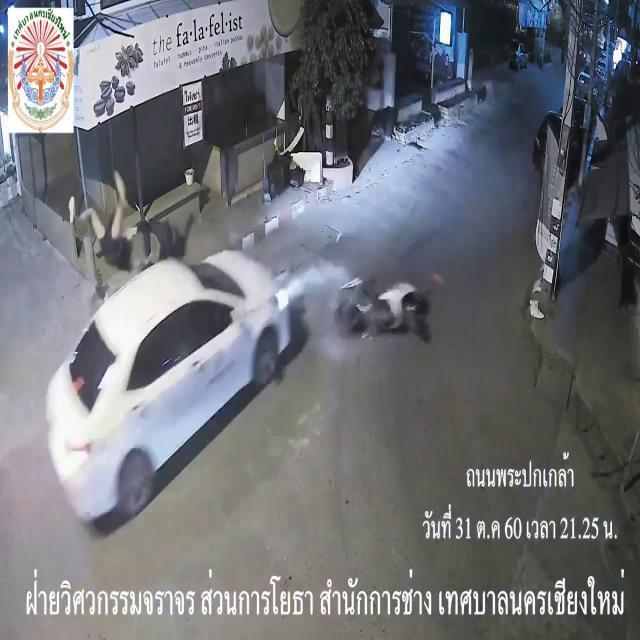accident: (45, 246, 441, 536)
